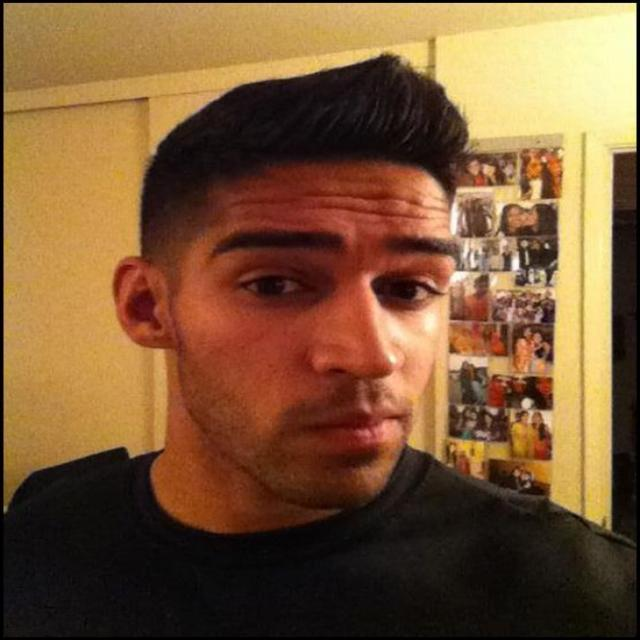earlobe: (110, 256, 168, 352)
